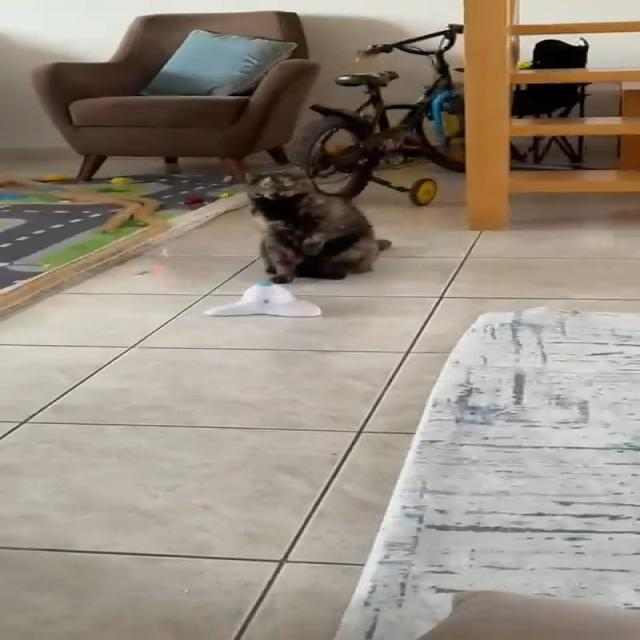authorized: (244, 167, 392, 284)
